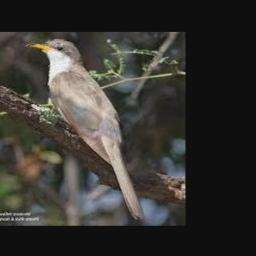Cuckoo: (26, 39, 145, 220)
